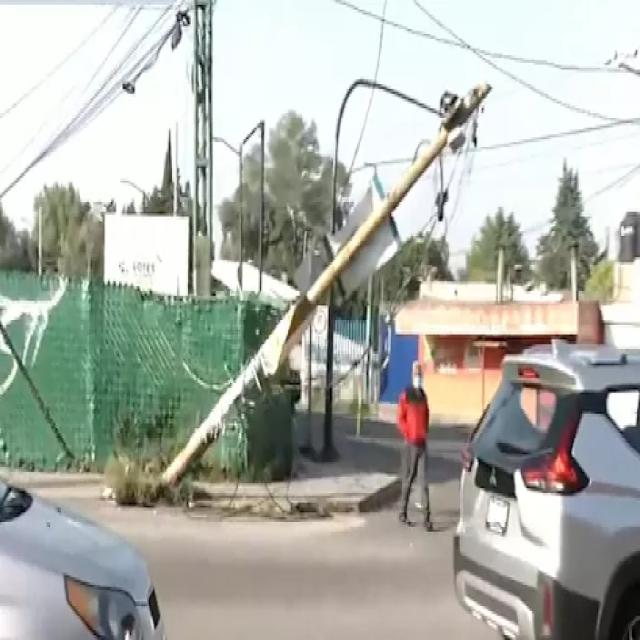Inclined Pole: (154, 72, 500, 489)
